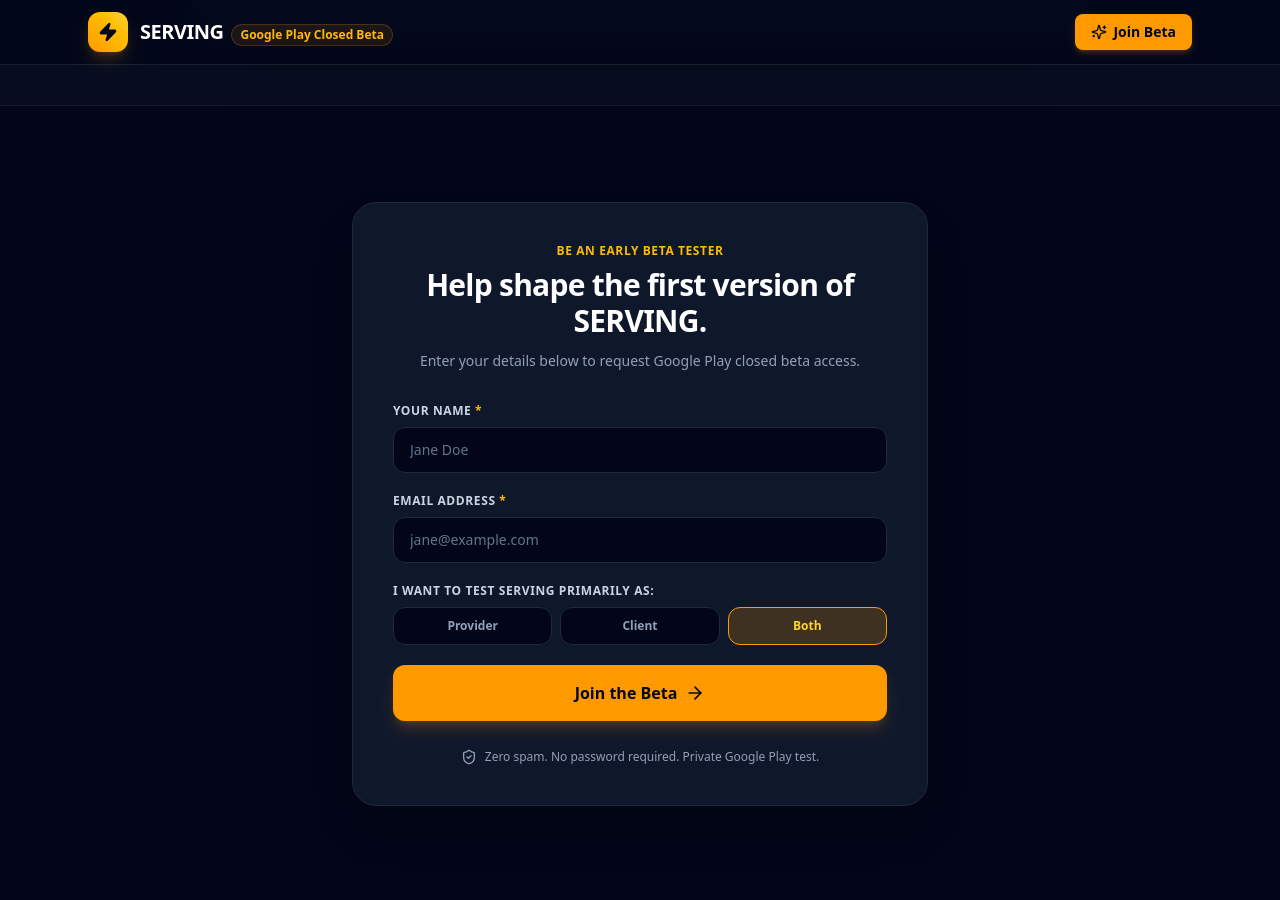
SERVING Beta Waitlist Landing Page › detects duplicate submissions gracefully
(page scrolled)
Step 1. Type "Duplicate User" into the field labelled "Your Name *" → (640, 450), box x1=393 y1=427 x2=887 y2=473
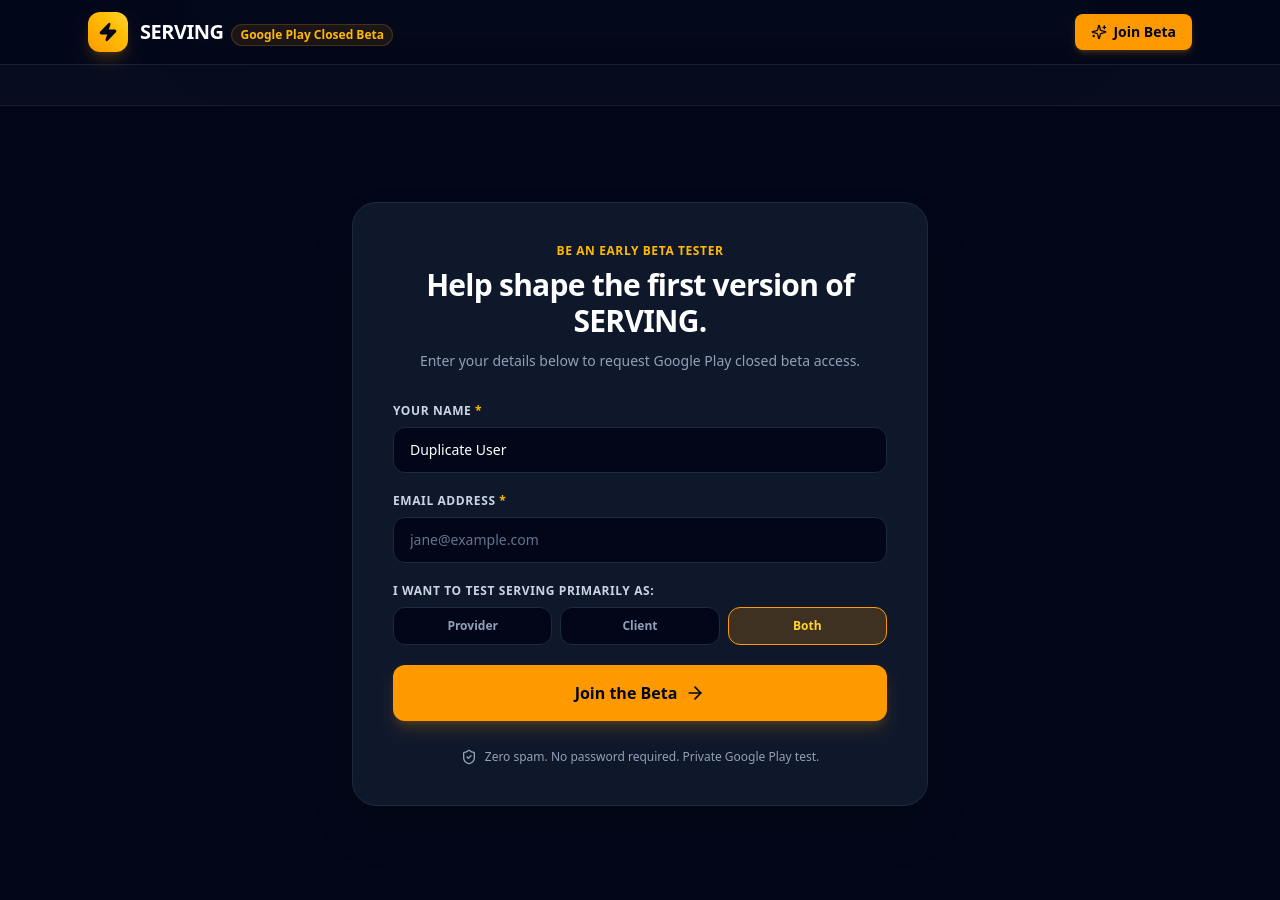
Step 2. Type "duplicate.user@example.com" into the field labelled "Email Address *" → (640, 540), box x1=393 y1=517 x2=887 y2=563
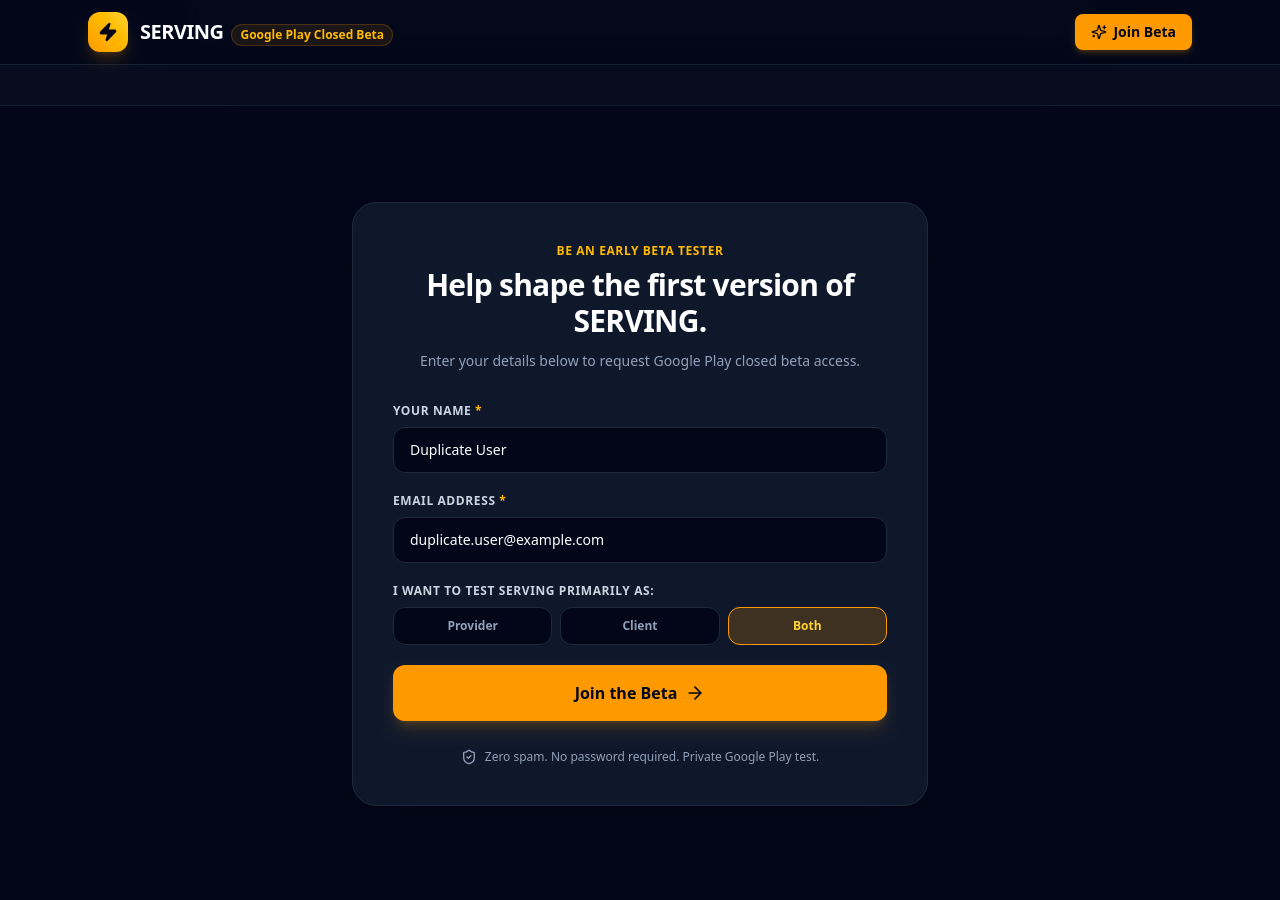
Step 3. Submit the form labelled "Your Name", box x1=393 y1=403 x2=887 y2=765
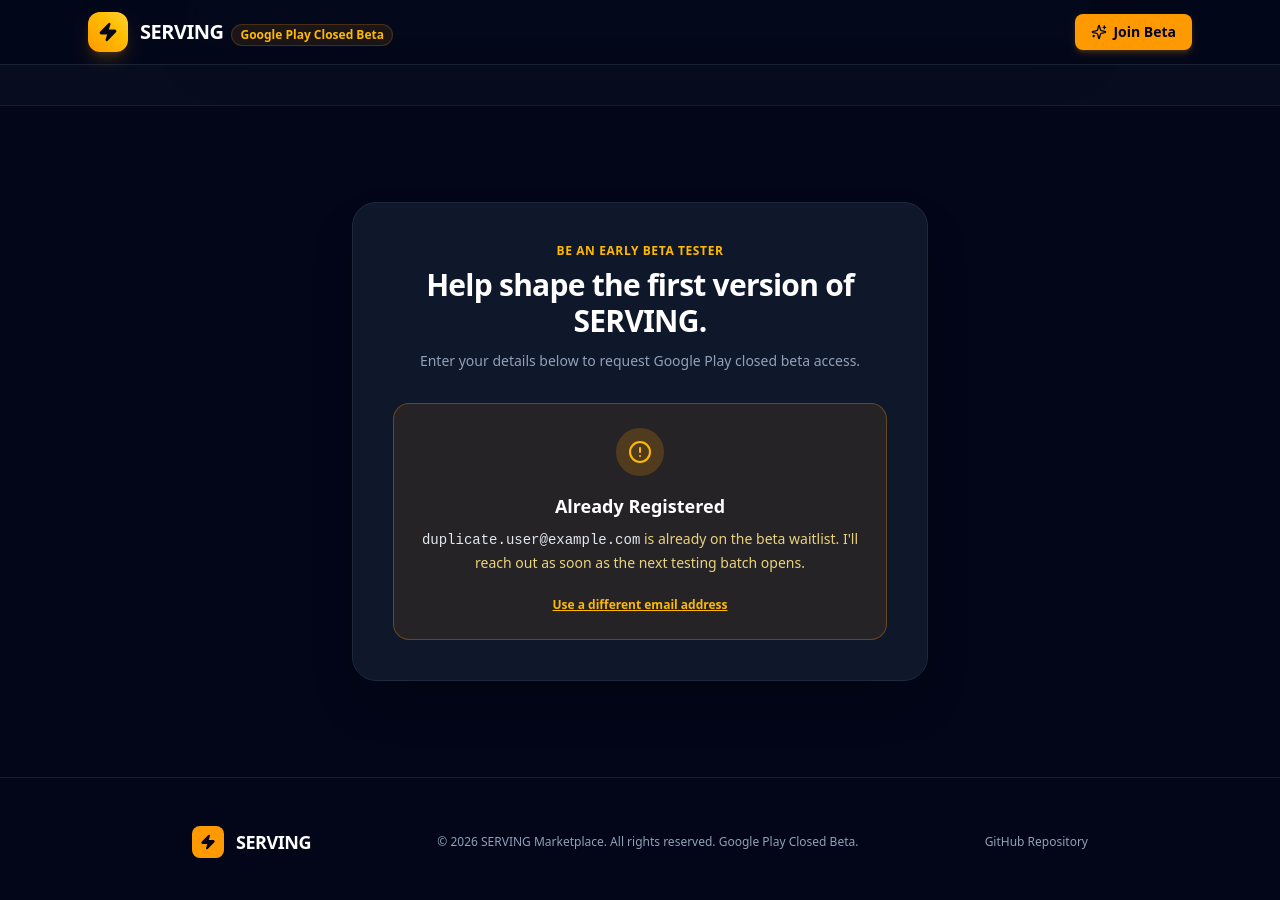
Result: the heading "Already Registered" is shown at x1=555 y1=494 x2=725 y2=518
